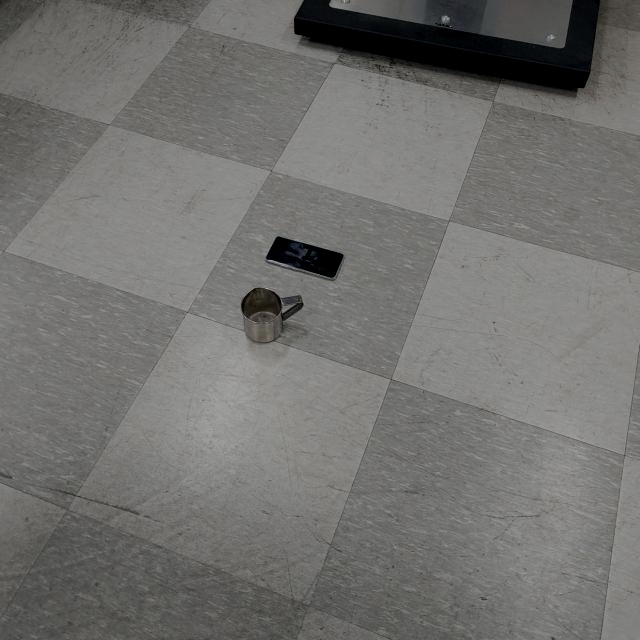cup: (238, 286, 308, 346)
phone: (264, 234, 344, 282)
